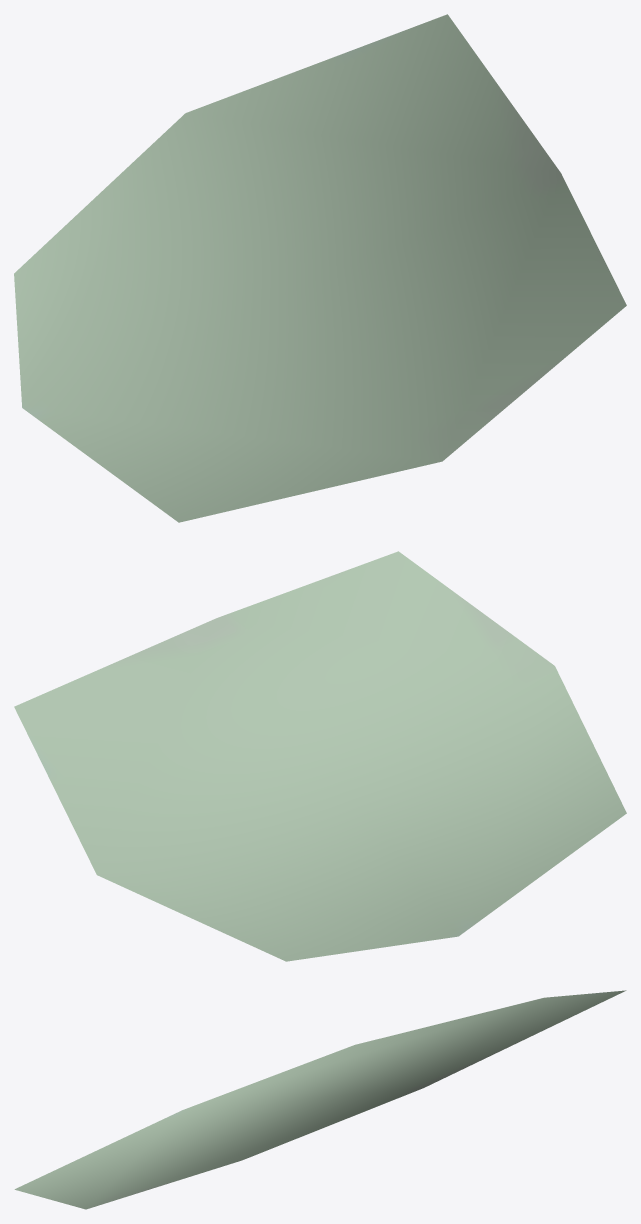
Rendered from TROLLHOLE02_HOLECAP89.fbx.
3 views of the same model, one above another, from view 1: azimuth 30°, elevation 25°; view 2: azimuth 150°, elevation 25°; view 3: azimuth 330°, elevation 25° (orthographic). The views are drawn at different scales.
Visible parts, largest first — view 1: TROLLHOLE02_HOLECAP89; view 2: TROLLHOLE02_HOLECAP89; view 3: TROLLHOLE02_HOLECAP89.
Boxes of the visible parts, x1=… form: TROLLHOLE02_HOLECAP89: x1=14, y1=14, x2=626, y2=522; TROLLHOLE02_HOLECAP89: x1=14, y1=551, x2=626, y2=961; TROLLHOLE02_HOLECAP89: x1=14, y1=990, x2=626, y2=1209.
Bounding box in the file's own units: 8160 × 3306 × 11319.
Materials: 1 (1 with a texture image).
